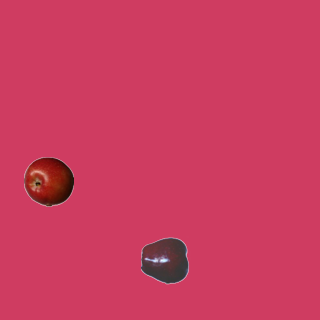Apple Braeburn: (23, 156, 73, 206)
Apple Red Delicious: (140, 235, 190, 285)
